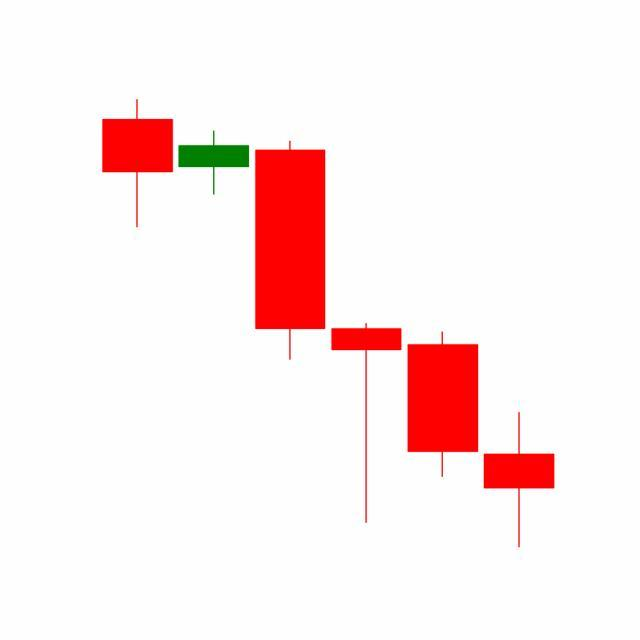Hikkake Pattern: (175, 126, 555, 549)
